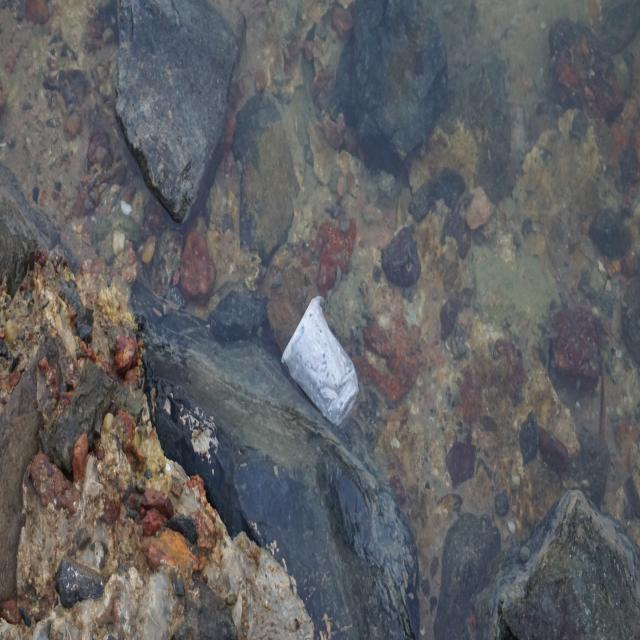Bungkus Minuman: (284, 292, 359, 431)
